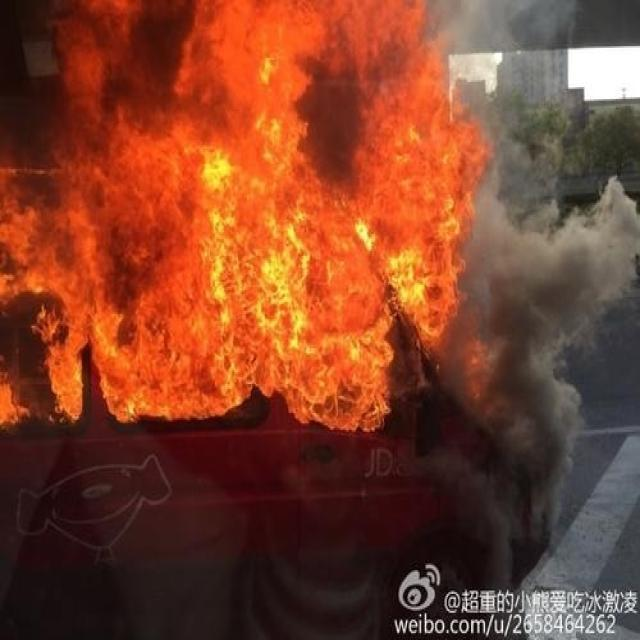Fire: (1, 2, 489, 436)
Smoke: (413, 1, 640, 588)
